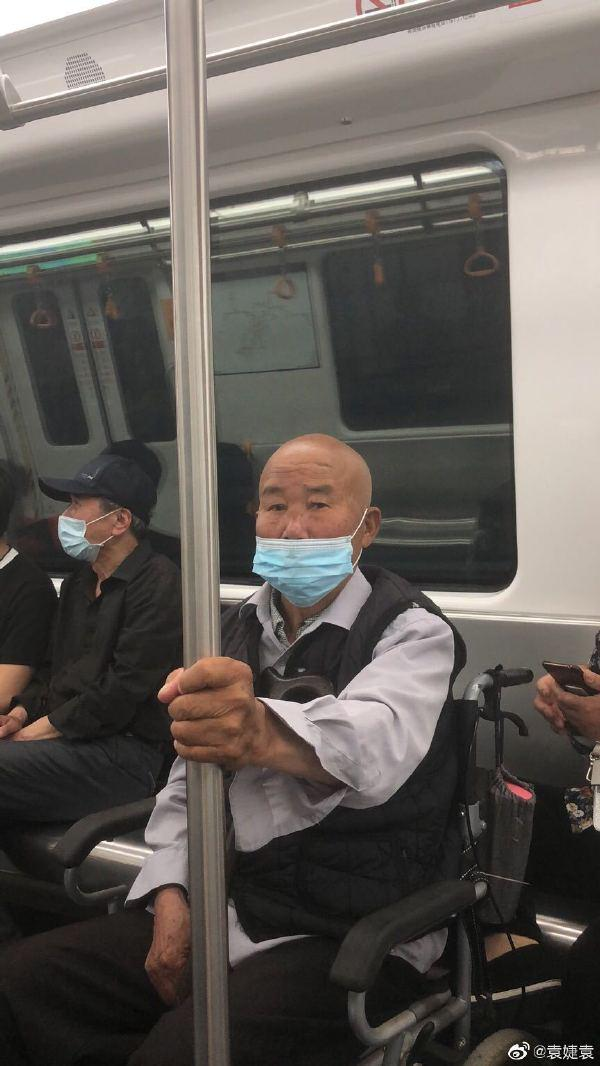OK: (58, 492, 112, 561)
WRONG: (255, 473, 361, 600)
